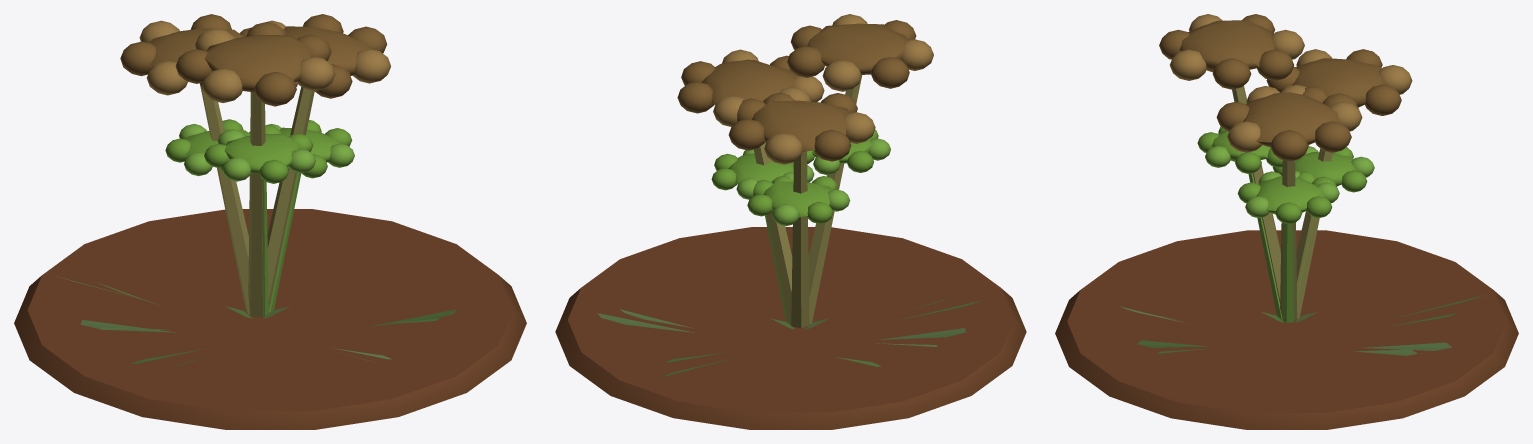
File: cumin-w5.glb
3 views of the same model, side by side, from view 1: azimuth 30°, elevation 25°; view 2: azimuth 150°, elevation 25°; view 3: azimuth 270°, elevation 25° (orthographic). The views are drawn at different scales.
Parts seen in each view (by area): view 1: crop-cumin-giant, crop-cumin-giant-2; view 2: crop-cumin-giant, crop-cumin-giant-2; view 3: crop-cumin-giant, crop-cumin-giant-2.
Boxes of the visible parts, x1=… form: crop-cumin-giant: x1=14, y1=14, x2=526, y2=429; crop-cumin-giant-2: x1=97, y1=119, x2=439, y2=366; crop-cumin-giant: x1=555, y1=14, x2=1026, y2=429; crop-cumin-giant-2: x1=620, y1=129, x2=950, y2=366; crop-cumin-giant: x1=1055, y1=14, x2=1518, y2=429; crop-cumin-giant-2: x1=1132, y1=126, x2=1457, y2=355.
Size of the model in its own units: 5.61 by 3.95 by 5.7.
